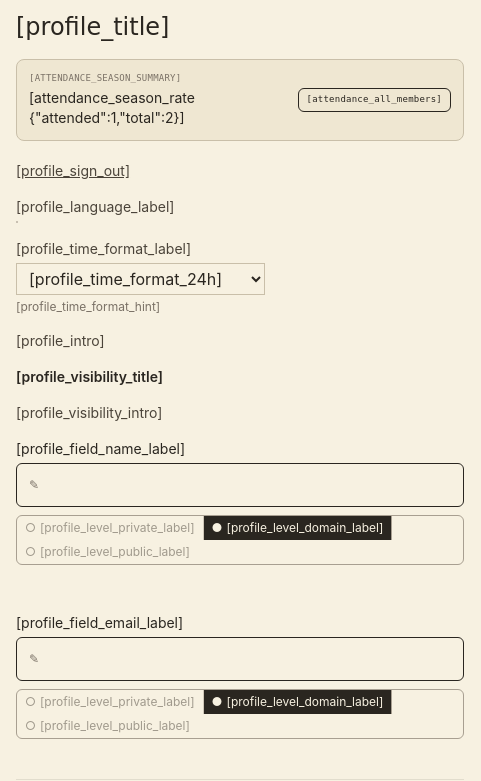
Test: #920 / #255 — the expanded list keeps deactivated members and states a short read › a failed member read shows the load error, not a roster-only list
The image size is (481, 781).
Expected: the element with test id "season-summary" is shown, [16,59,464,140]
Click the button with test id "season-summary-expand" at coordinates (374, 100), box [298,88,451,112]
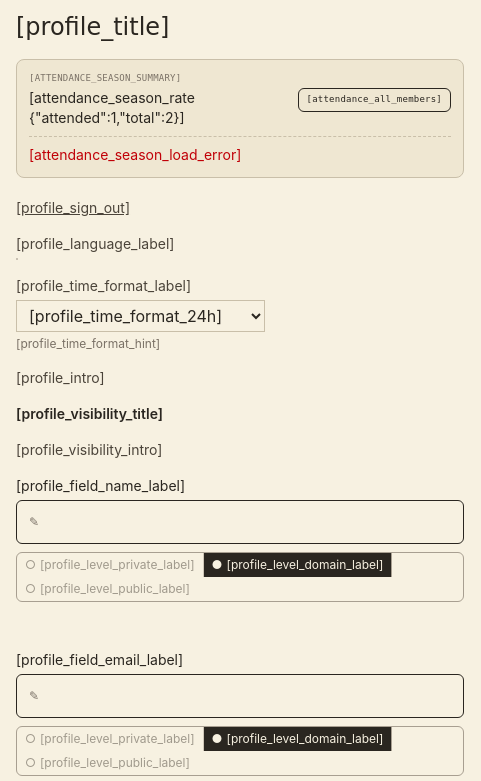
Expected: the message "[attendance_season_load_error]" is shown, [29,146,241,162]
